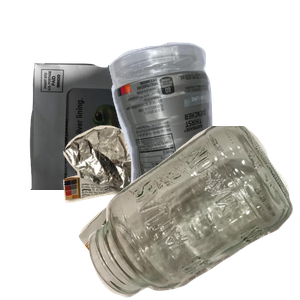glass: (86, 126, 300, 300)
paper: (27, 60, 223, 240)
plastic: (106, 40, 300, 220)
trash: (61, 123, 273, 300)
